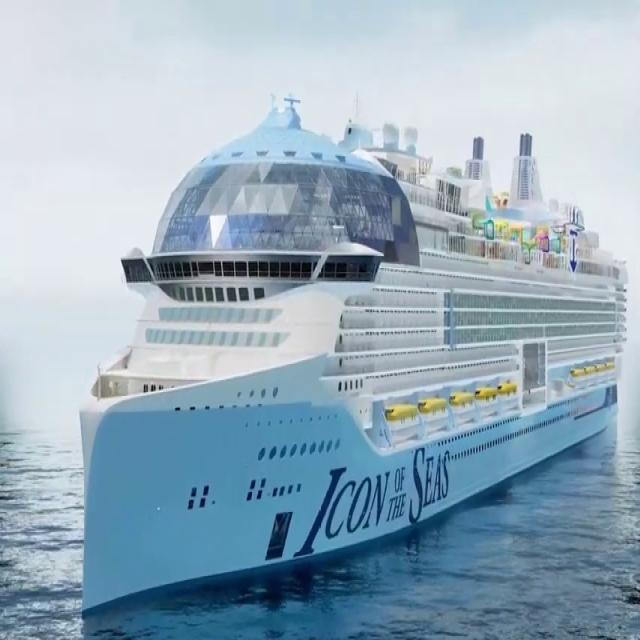passenger ship: (79, 85, 629, 610)
